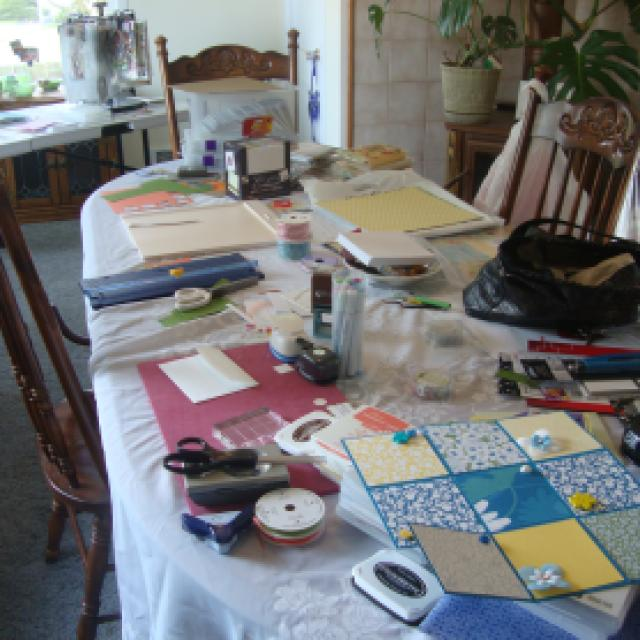scattered-items: (76, 106, 640, 640)
